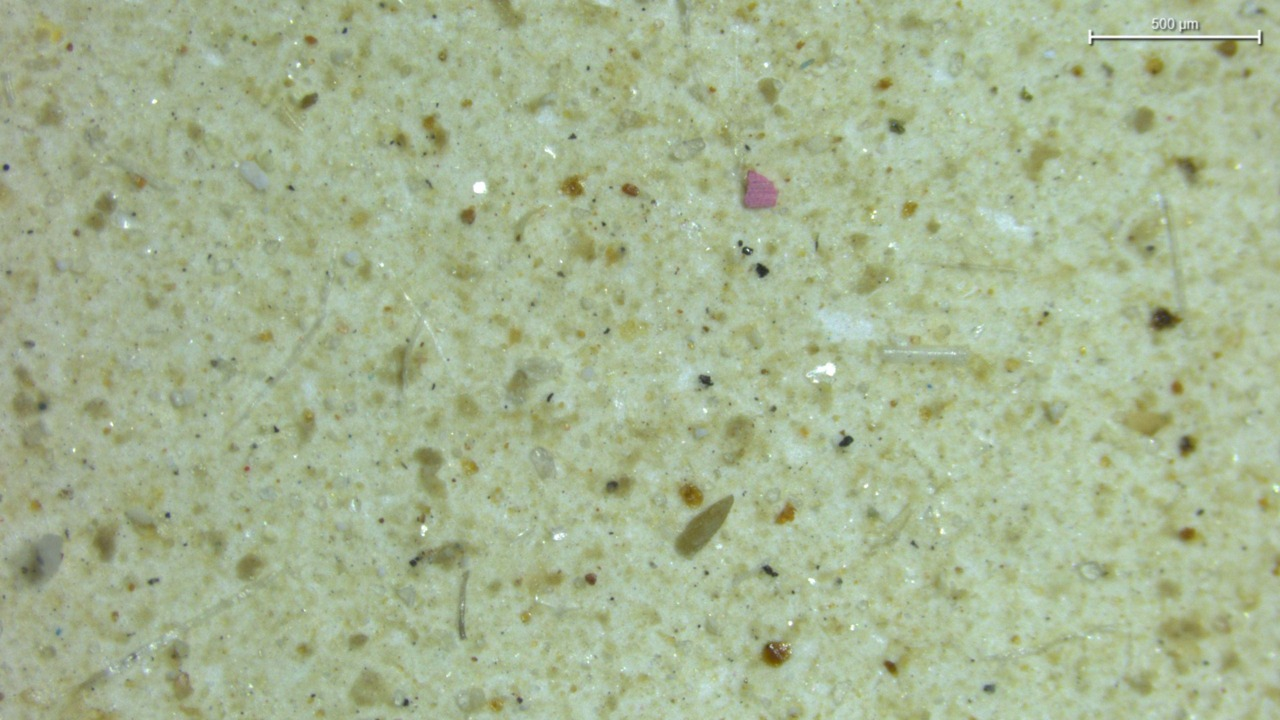microplastic_fragment: (676, 495, 734, 557), (743, 170, 778, 208), (237, 160, 269, 191), (529, 446, 556, 479), (343, 250, 362, 267)
